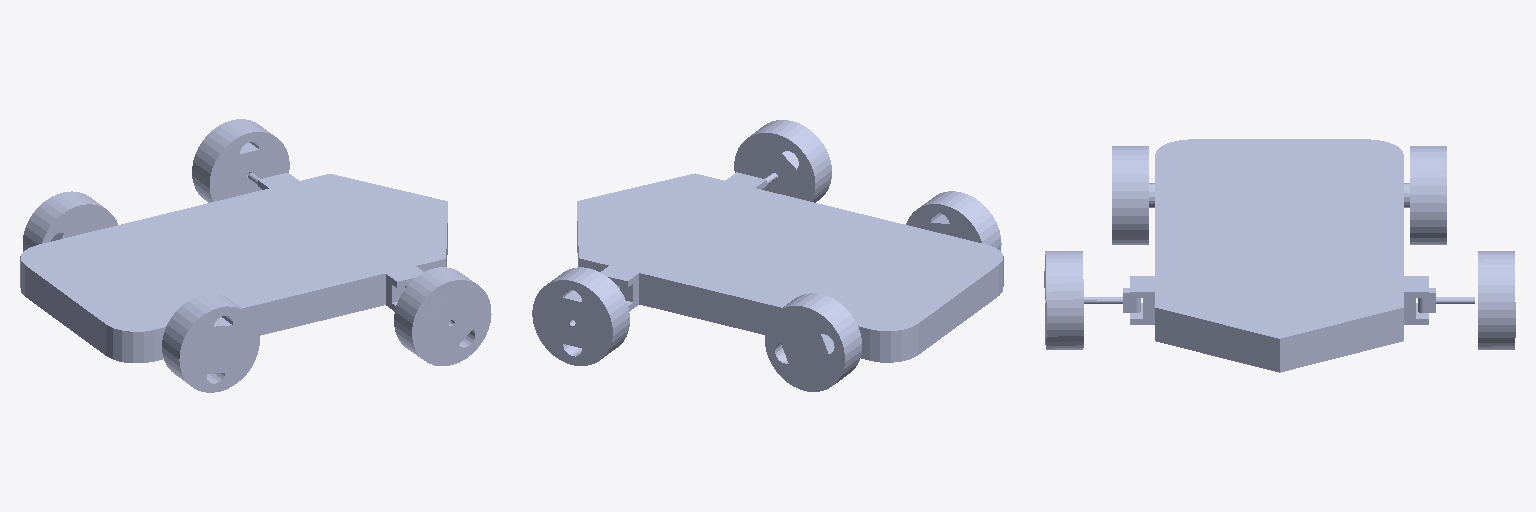
The robot description file, URDF, robot "urdf_file":
<?xml version="1.0" encoding="utf-8"?>

<robot
  name="urdf_file">
  <link 
    name="dummy_link">
    <pose> "0 0 0 0 0 0"</pose>
  </link>
  <joint 
    name="dummy_joint"
    type="fixed">
    <parent
      link="dummy_link" />
    <child
      link="base_link" />
  </joint>
  <link
    name="base_link">
    <inertial>
      <origin
        xyz="-0.034411373133959 1.11213541780183E-05 0.1016"
        rpy="0 0 0" />
      <mass
        value="32.1636737272779" />
      <inertia
        ixx="0.669581472059351"
        ixy="-0.000157679818259281"
        ixz="-2.3149715739769E-18"
        iyy="2.14759610921641"
        iyz="-1.23494349736151E-18"
        izz="2.78472295600065" />
    </inertial>
    <visual>
      <origin
        xyz="0 0 0"
        rpy="0 0 0" />
      <geometry>
        <mesh
          filename="package://urdf_file/meshes/base_link.STL" />
      </geometry>
      <material
        name="">
        <color
          rgba="0.792156862745098 0.819607843137255 0.933333333333333 1" />
      </material>
    </visual>
    <collision>
      <origin
        xyz="0 0 0"
        rpy="0 0 0" />
      <geometry>
        <mesh
          filename="package://urdf_file/meshes/base_link.STL" />
      </geometry>
    </collision>
  </link>
  <link
    name="rear_left_wheel">
    <inertial>
      <origin
        xyz="-9.32860943899242E-16 5.55111512312578E-17 -0.0428410228185393"
        rpy="0 0 0" />
      <mass
        value="2.48230534847962" />
      <inertia
        ixx="0.00840619794732562"
        ixy="-9.87391873143423E-05"
        ixz="1.40975042537836E-19"
        iyy="0.00782887116866109"
        iyz="6.97040447516966E-19"
        izz="0.0121508892249127" />
    </inertial>
    <visual>
      <origin
        xyz="0 0 0"
        rpy="0 0 0" />
      <geometry>
        <mesh
          filename="package://urdf_file/meshes/rear_left_wheel.STL" />
      </geometry>
      <material
        name="">
        <color
          rgba="0.792156862745098 0.819607843137255 0.933333333333333 1" />
      </material>
    </visual>
    <collision>
      <origin
        xyz="0 0 0"
        rpy="0 0 0" />
      <geometry>
        <mesh
          filename="package://urdf_file/meshes/rear_left_wheel.STL" />
      </geometry>
    </collision>
  </link>
  <joint
    name="rear_left_wheel_joint"
    type="continuous">
    <origin
      xyz="-0.2921 -0.3429 0.1016"
      rpy="1.5707963267949 1.5707963267949 0" />
    <parent
      link="base_link" />
    <child
      link="rear_left_wheel" />
    <axis
      xyz="0 0 1" />
  </joint>
  <link
    name="rear_right_wheel">
    <inertial>
      <origin
        xyz="-1.48075352996099E-16 -1.11022302462516E-16 0.0428410228185393"
        rpy="0 0 0" />
      <mass
        value="2.48230534847962" />
      <inertia
        ixx="0.00791346134628071"
        ixy="0.000226782062151254"
        ixz="-4.79062574941557E-20"
        iyy="0.00832160776970599"
        iyz="6.54441713073281E-20"
        izz="0.0121508892249127" />
    </inertial>
    <visual>
      <origin
        xyz="0 0 0"
        rpy="0 0 0" />
      <geometry>
        <mesh
          filename="package://urdf_file/meshes/rear_right_wheel.STL" />
      </geometry>
      <material
        name="">
        <color
          rgba="0.792156862745098 0.819607843137255 0.933333333333333 1" />
      </material>
    </visual>
    <collision>
      <origin
        xyz="0 0 0"
        rpy="0 0 0" />
      <geometry>
        <mesh
          filename="package://urdf_file/meshes/rear_right_wheel.STL" />
      </geometry>
    </collision>
  </link>
  <joint
    name="rear_right_wheel_joint"
    type="continuous">
    <origin
      xyz="-0.2921 0.3429 0.1016"
      rpy="1.5707963267949 1.5707963267949 0" />
    <parent
      link="base_link" />
    <child
      link="rear_right_wheel" />
    <axis
      xyz="0 0 1" />
  </joint>
  <link
    name="attacher_base_right">
    <inertial>
      <origin
        xyz="0.2159 0.248433232856291 0.101587561017618"
        rpy="0 0 0" />
      <mass
        value="0.355491986660241" />
      <inertia
        ixx="0.000546838034350031"
        ixy="5.75931618268393E-21"
        ixz="1.91735477219604E-20"
        iyy="0.000271823706946171"
        iyz="1.92396147569372E-07"
        izz="0.00052462873390416" />
    </inertial>
    <visual>
      <origin
        xyz="0 0 0"
        rpy="0 0 0" />
      <geometry>
        <mesh
          filename="package://urdf_file/meshes/attacher_base_right.STL" />
      </geometry>
      <material
        name="">
        <color
          rgba="0.792156862745098 0.819607843137255 0.933333333333333 1" />
      </material>
    </visual>
    <collision>
      <origin
        xyz="0 0 0"
        rpy="0 0 0" />
      <geometry>
        <mesh
          filename="package://urdf_file/meshes/attacher_base_right.STL" />
      </geometry>
    </collision>
  </link>
  <joint
    name="attacher_base_right_joint"
    type="fixed">
    <origin
      xyz="0 0 0"
      rpy="0 0 0" />
    <parent
      link="base_link" />
    <child
      link="attacher_base_right" />
    <axis
      xyz="0 0 0" />
  </joint>
  <link
    name="attacher_base_left">
    <inertial>
      <origin
        xyz="0.2159 -0.248433232856291 0.101612438982379"
        rpy="0 0 0" />
      <mass
        value="0.355491986660241" />
      <inertia
        ixx="0.000546838034350031"
        ixy="5.18462978621119E-20"
        ixz="-8.15060644614507E-20"
        iyy="0.000271823706946171"
        iyz="1.9239614756665E-07"
        izz="0.00052462873390416" />
    </inertial>
    <visual>
      <origin
        xyz="0 0 0"
        rpy="0 0 0" />
      <geometry>
        <mesh
          filename="package://urdf_file/meshes/attacher_base_left.STL" />
      </geometry>
      <material
        name="">
        <color
          rgba="0.792156862745098 0.819607843137255 0.933333333333333 1" />
      </material>
    </visual>
    <collision>
      <origin
        xyz="0 0 0"
        rpy="0 0 0" />
      <geometry>
        <mesh
          filename="package://urdf_file/meshes/attacher_base_left.STL" />
      </geometry>
    </collision>
  </link>
  <joint
    name="attacher_base_left_joint"
    type="fixed">
    <origin
      xyz="0 0 0"
      rpy="0 0 0" />
    <parent
      link="base_link" />
    <child
      link="attacher_base_left" />
    <axis
      xyz="0 0 0" />
  </joint>
  <link
    name="rotator_left">
    <inertial>
      <origin
        xyz="-0.0222418476214782 -0.000471333073193719 -0.0380864535979338"
        rpy="0 0 0" />
      <mass
        value="0.055906834517021" />
      <inertia
        ixx="1.34991538160197E-05"
        ixy="-8.1209258830838E-07"
        ixz="-2.91771067384044E-19"
        iyy="5.18039733757289E-05"
        iyz="-4.32992189828792E-20"
        izz="4.18327110367438E-05" />
    </inertial>
    <visual>
      <origin
        xyz="0 0 0"
        rpy="0 0 0" />
      <geometry>
        <mesh
          filename="package://urdf_file/meshes/rotator_left.STL" />
      </geometry>
      <material
        name="">
        <color
          rgba="0.792156862745098 0.819607843137255 0.933333333333333 1" />
      </material>
    </visual>
    <collision>
      <origin
        xyz="0 0 0"
        rpy="0 0 0" />
      <geometry>
        <mesh
          filename="package://urdf_file/meshes/rotator_left.STL" />
      </geometry>
    </collision>
  </link>
  <joint
    name="rotator_left_joint"
    type="revolute">
    <origin
      xyz="0.215900000000431 -0.293613689232152 0.0635000000037737"
      rpy="-3.14159265358979 0 1.5707963267949" />
    <parent
      link="base_link" />
    <child
      link="rotator_left" />
    <axis
      xyz="0 0 -1" />
    <limit 
      lower="-0.785398" upper="0.785398" velocity="10" effort="100"/>
  </joint>
  <link
    name="front_left_wheel">
    <inertial>
      <origin
        xyz="3.11532334082215E-12 -4.12336831345783E-13 -0.0381000000021347"
        rpy="0 0 0" />
      <mass
        value="2.3139609092841" />
      <inertia
        ixx="0.00722158167920024"
        ixy="-0.000300689458011547"
        ixz="2.60030253887965E-19"
        iyy="0.00711839584116015"
        iyz="-4.2889222693301E-19"
        izz="0.0121006649900098" />
    </inertial>
    <visual>
      <origin
        xyz="0 0 0"
        rpy="0 0 0" />
      <geometry>
        <mesh
          filename="package://urdf_file/meshes/front_left_wheel.STL" />
      </geometry>
      <material
        name="">
        <color
          rgba="0.792156862745098 0.819607843137255 0.933333333333333 1" />
      </material>
    </visual>
    <collision>
      <origin
        xyz="0 0 0"
        rpy="0 0 0" />
      <geometry>
        <mesh
          filename="package://urdf_file/meshes/front_left_wheel.STL" />
      </geometry>
    </collision>
  </link>
  <joint
    name="front_left_wheel_joint"
    type="continuous">
    <origin
      xyz="-0.107925769603463 -0.0022870844850319 -0.038081971117887"
      rpy="3.12040455150953 -1.5707963267949 0" />
    <parent
      link="rotator_left" />
    <child
      link="front_left_wheel" />
    <axis
      xyz="0.000136968651189618 0.0190364287336147 0.999818781390237" />
  </joint>
  <link
    name="rotator_right">
    <inertial>
      <origin
        xyz="0.022246569974317 -0.00010984064748315 -0.0381694966563745"
        rpy="0 0 0" />
      <mass
        value="0.0559068345170211" />
      <inertia
        ixx="1.34828791554118E-05"
        ixy="1.89292285700758E-07"
        ixz="4.82462564187826E-21"
        iyy="5.18202480363369E-05"
        iyz="-1.50129622114267E-22"
        izz="4.18327110367438E-05" />
    </inertial>
    <visual>
      <origin
        xyz="0 0 0"
        rpy="0 0 0" />
      <geometry>
        <mesh
          filename="package://urdf_file/meshes/rotator_right.STL" />
      </geometry>
      <material
        name="">
        <color
          rgba="0.792156862745098 0.819607843137255 0.933333333333333 1" />
      </material>
    </visual>
    <collision>
      <origin
        xyz="0 0 0"
        rpy="0 0 0" />
      <geometry>
        <mesh
          filename="package://urdf_file/meshes/rotator_right.STL" />
      </geometry>
    </collision>
  </link>
  <joint
    name="rotator_right_joint"
    type="revolute">
    <origin
      xyz="0.2159 0.293613689229737 0.0635"
      rpy="3.14159265358979 0 1.5707963267949" />
    <parent
      link="base_link" />
    <child
      link="rotator_right" />
    <axis
      xyz="0 0 -1" />
    <limit 
      lower="-0.785398" upper="0.785398" velocity="10" effort="100"/>
  </joint>
  <link
    name="front_right_wheel">
    <inertial>
      <origin
        xyz="-3.15773882736403E-18 0.000188113388470273 0.0380995356054779"
        rpy="0 0 0" />
      <mass
        value="2.3139609092841" />
      <inertia
        ixx="0.00747507232160606"
        ixy="-9.75633746895082E-21"
        ixz="4.65093748723565E-19"
        iyy="0.00686503283357574"
        iyz="2.58505120883704E-05"
        izz="0.0121005373551884" />
    </inertial>
    <visual>
      <origin
        xyz="0 0 0"
        rpy="0 0 0" />
      <geometry>
        <mesh
          filename="package://urdf_file/meshes/front_right_wheel.STL" />
      </geometry>
      <material
        name="">
        <color
          rgba="0.792156862745098 0.819607843137255 0.933333333333333 1" />
      </material>
    </visual>
    <collision>
      <origin
        xyz="0 0 0"
        rpy="0 0 0" />
      <geometry>
        <mesh
          filename="package://urdf_file/meshes/front_right_wheel.STL" />
      </geometry>
    </collision>
  </link>
  <joint
    name="front_right_wheel_joint"
    type="continuous">
    <origin
      xyz="0.111758637776069 -0.000551799272846015 -0.0381924929971992"
      rpy="3.14159265358979 -1.5707963267949 0" />
    <parent
      link="rotator_right" />
    <child
      link="front_right_wheel" />
    <axis
      xyz="0.000136968651188685 -0.0021505215480761 0.999997678245635" />
  </joint>
  
  <transmission name="left_wheel_turn_trans">
  <type>transmission_interface/SimpleTransmission</type>
  <joint name="rotator_left_joint">
    <hardwareInterface>hardware_interface/EffortJointInterface</hardwareInterface>
  </joint>
  <actuator name="rotator_left_joint_motor">
  <mechanicalReduction>1</mechanicalReduction>
    <hardwareInterface>hardware_interface/EffortJointInterface</hardwareInterface>
  </actuator>
  </transmission>

  <transmission name="right_wheel_turn_trans">
  <type>transmission_interface/SimpleTransmission</type>
  <joint name="rotator_right_joint">
      <hardwareInterface>hardware_interface/EffortJointInterface</hardwareInterface>
  </joint>
  <actuator name="rotator_right_joint_motor">
  <mechanicalReduction>1</mechanicalReduction>
    <hardwareInterface>hardware_interface/EffortJointInterface</hardwareInterface>
  </actuator>
  </transmission>

  <transmission name="front_left_wheel_speed_trans">
  <type>transmission_interface/SimpleTransmission</type>
  <joint name="front_left_wheel_joint">
      <hardwareInterface>hardware_interface/VelocityJointInterface</hardwareInterface>
  </joint>
  <actuator name="front_left_wheel_speed_motor">
  <mechanicalReduction>1</mechanicalReduction>
    <hardwareInterface>hardware_interface/VelocityJointInterface</hardwareInterface>
  </actuator>
  </transmission>

  <transmission name="front_right_wheel_speed_trans">
  <type>transmission_interface/SimpleTransmission</type>
  <joint name="front_right_wheel_joint">
    <hardwareInterface>hardware_interface/VelocityJointInterface</hardwareInterface>
  </joint>
  <actuator name="front_right_wheel_speed_motor">
  <mechanicalReduction>1</mechanicalReduction>
    <hardwareInterface>hardware_interface/VelocityJointInterface</hardwareInterface>
  </actuator>
  </transmission>

</robot>

--- What the picture shows (computed from the rendered views, not written in the file) ---
3 views of the same robot in one strip: view 1: azimuth 30°, elevation 25°; view 2: azimuth 150°, elevation 25°; view 3: azimuth 270°, elevation 25° (orthographic).
Robot: urdf_file — 10 links, 9 joints (2 revolute, 4 continuous, 3 fixed); root link dummy_link; default pose: every joint at zero.
Visible links, largest first — view 1: base_link, rear_left_wheel, front_left_wheel, front_right_wheel, rear_right_wheel, attacher_base_left; view 2: base_link, front_right_wheel, rear_right_wheel, front_left_wheel, rear_left_wheel, attacher_base_right; view 3: base_link, front_left_wheel, rear_left_wheel, rear_right_wheel, front_right_wheel, attacher_base_right, attacher_base_left, rotator_left, rotator_right.
Boxes of the visible links, <box> form: base_link: <box>20,174,447,362</box>; rear_left_wheel: <box>162,294,259,392</box>; front_left_wheel: <box>394,267,491,365</box>; front_right_wheel: <box>192,119,289,202</box>; rear_right_wheel: <box>23,191,117,251</box>; attacher_base_left: <box>386,266,423,311</box>; base_link: <box>577,173,1003,362</box>; front_right_wheel: <box>532,267,629,365</box>; rear_right_wheel: <box>765,293,861,391</box>; front_left_wheel: <box>734,120,831,202</box>; rear_left_wheel: <box>906,191,1001,250</box>; attacher_base_right: <box>600,266,638,311</box>; base_link: <box>1155,139,1403,372</box>; front_left_wheel: <box>1044,251,1083,349</box>; rear_left_wheel: <box>1112,146,1154,244</box>; rear_right_wheel: <box>1404,146,1446,244</box>; front_right_wheel: <box>1478,251,1515,349</box>; attacher_base_right: <box>1404,276,1428,324</box>; attacher_base_left: <box>1130,276,1154,324</box>; rotator_left: <box>1084,282,1140,312</box>; rotator_right: <box>1418,282,1474,312</box>.
Bounding box of the posed robot: 0.9652 × 0.9619 × 0.2033 m (x, y, z).
9 mesh visuals loaded from 9 distinct referenced files (9 binary STL).